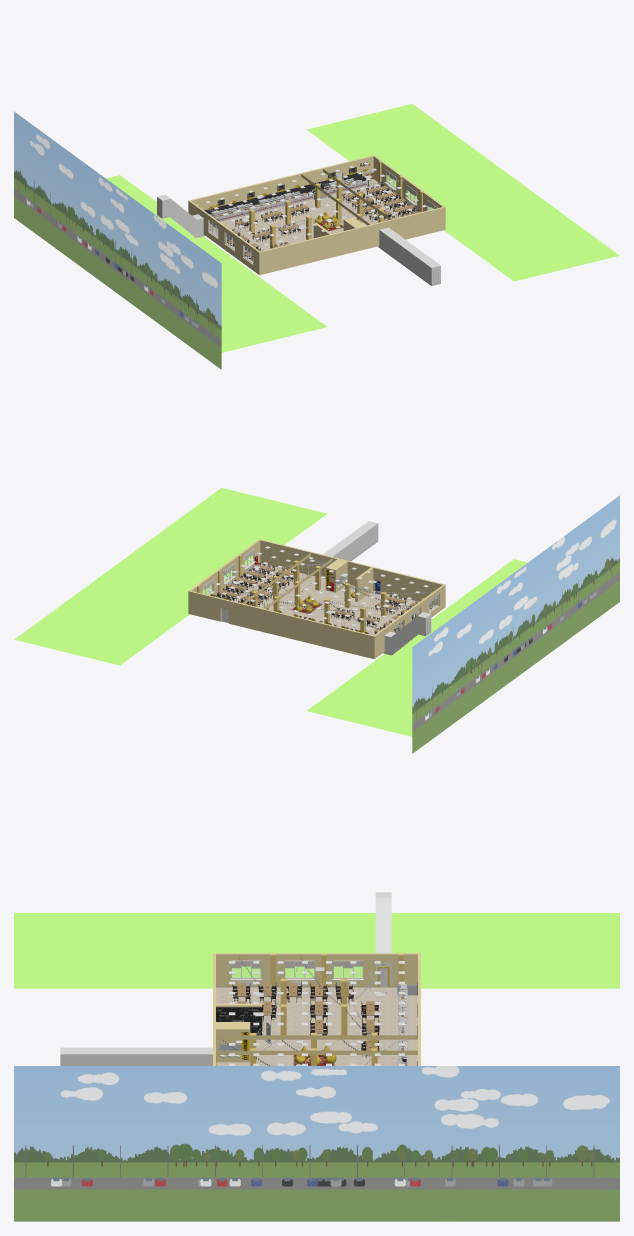
File: Canteen_LowPoly.glb
3 renders of one model, top to bottom at view 1: azimuth 30°, elevation 25°; view 2: azimuth 150°, elevation 25°; view 3: azimuth 270°, elevation 25°, orthographic. The views are drawn at different scales.
Parts seen in each view (by area): view 1: Outside_View, Walls, Floor, Tunnel_Shell (×2), Columns, Bunting; view 2: Outside_View, Walls, Floor, Tunnel_Shell (×2), Columns, Bunting, Entrance_Block; view 3: Outside_View, Floor, Walls, Tunnel_Shell (×2), Ceiling, Columns, Entrance_Block, Chalk_Wall, Bunting, Window_Glass.
Boxes of the visible parts, box(x1,y1,x2,y2) form: Outside_View: box(14, 104, 619, 369); Walls: box(188, 155, 445, 275); Floor: box(209, 179, 418, 261); Tunnel_Shell (×2): box(157, 194, 440, 285); Columns: box(249, 178, 383, 247); Bunting: box(202, 179, 403, 246); Outside_View: box(14, 488, 619, 753); Walls: box(188, 539, 445, 659); Floor: box(215, 563, 434, 635); Tunnel_Shell (×2): box(315, 521, 431, 655); Columns: box(252, 560, 386, 631); Bunting: box(221, 562, 431, 629); Entrance_Block: box(325, 559, 347, 592); Outside_View: box(14, 913, 619, 1221); Floor: box(216, 987, 417, 1065); Walls: box(213, 953, 420, 1065); Tunnel_Shell (×2): box(60, 892, 391, 1065); Ceiling: box(216, 1035, 417, 1054); Columns: box(250, 978, 377, 1065); Entrance_Block: box(216, 1022, 250, 1062); Chalk_Wall: box(216, 1003, 262, 1035); Bunting: box(223, 956, 398, 1065); Window_Glass: box(232, 967, 361, 977).
Bounding box in the file's own units: 66.5 × 17 × 60.
97 materials, 26 textured.
